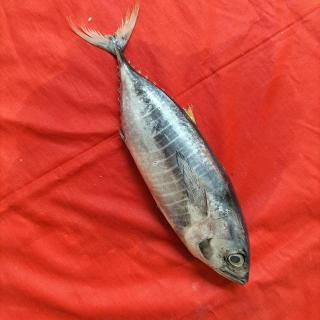Ikan: (66, 2, 262, 292)
